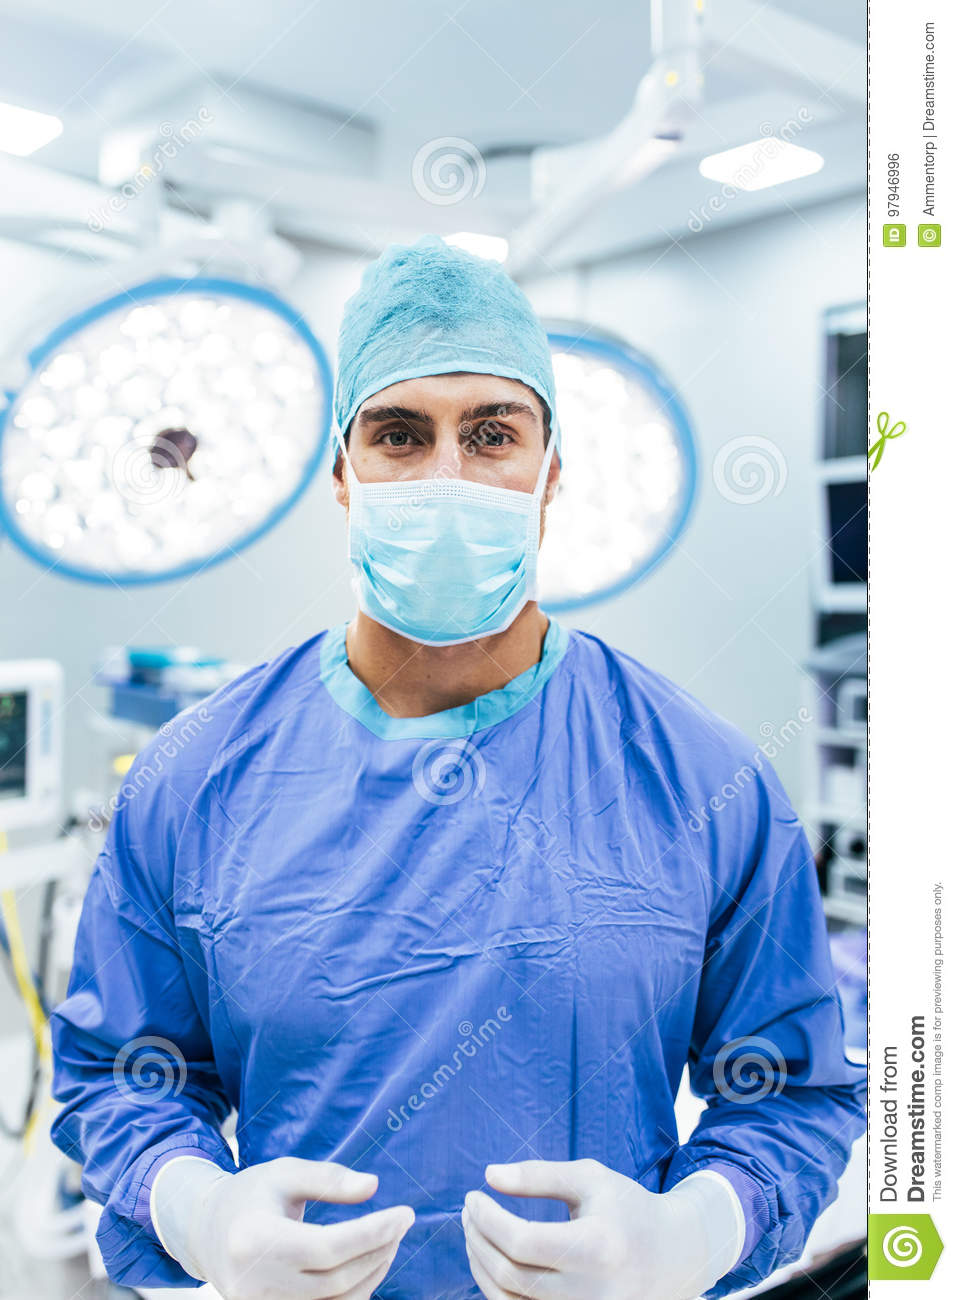mask: (346, 471, 544, 663)
